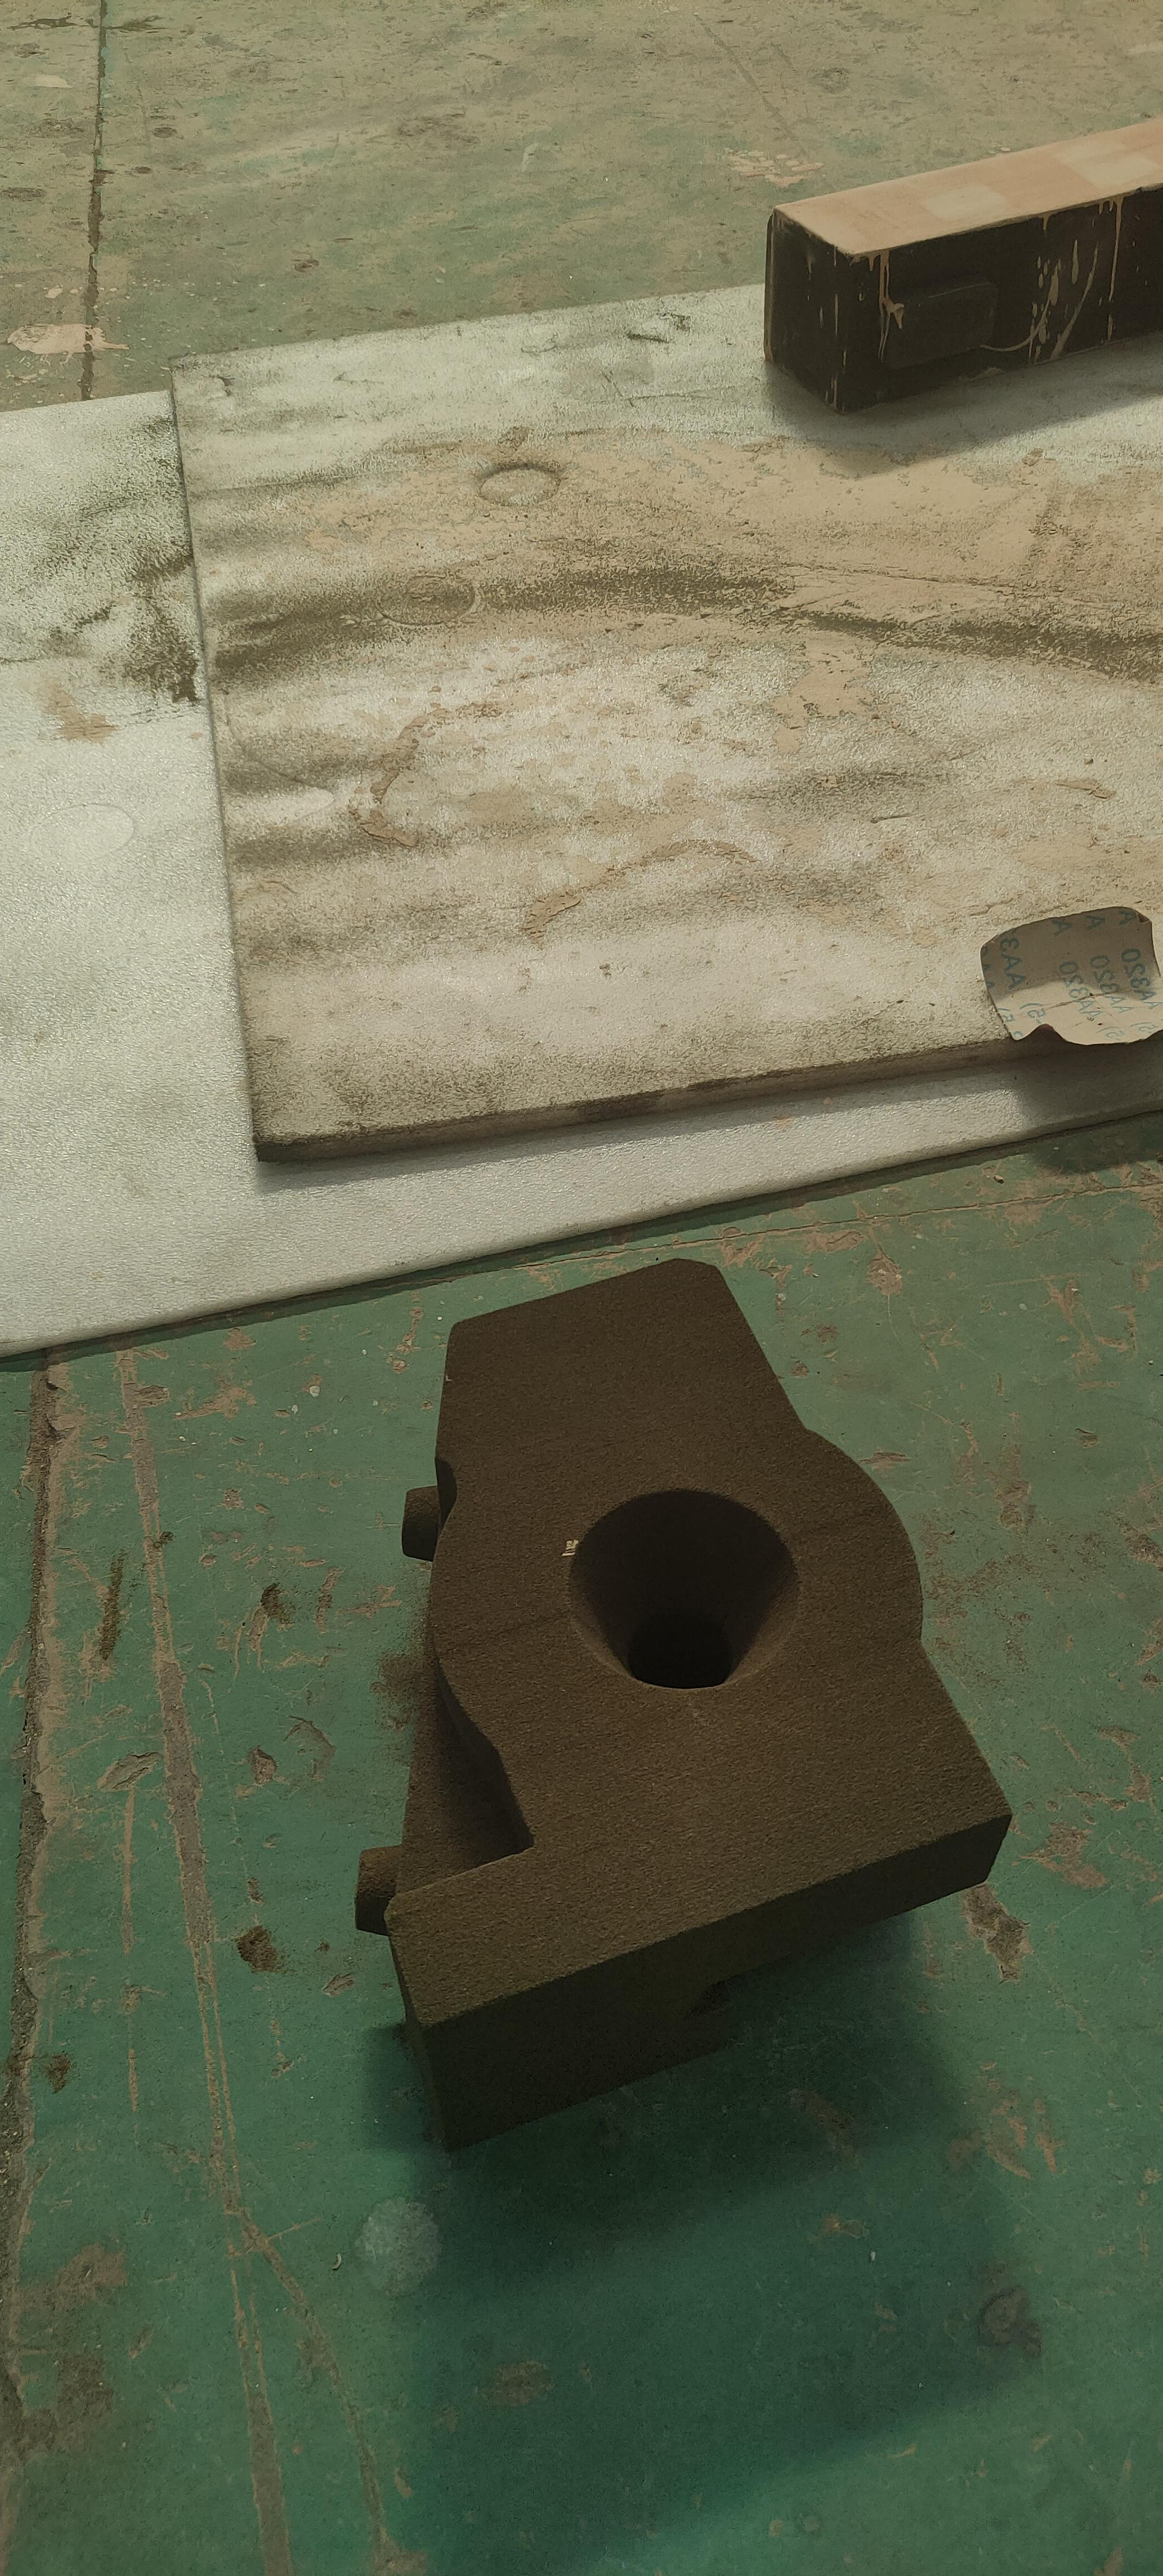pouring hole: (565, 1488, 802, 1690)
